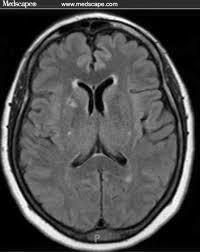Normal_Brain: (5, 7, 200, 252)
